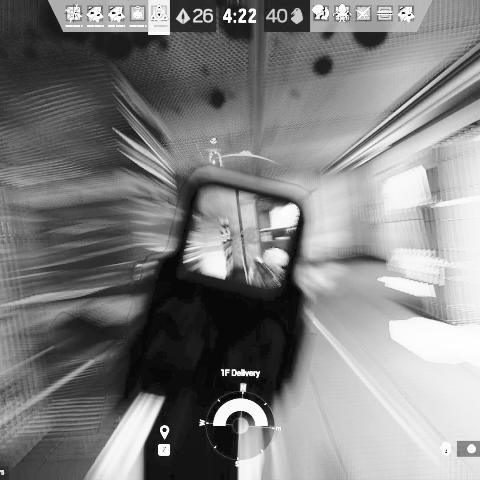Character: (246, 246, 292, 290), (218, 216, 235, 275)
Friend_label: (204, 137, 222, 152)
Head: (262, 246, 288, 272), (220, 217, 230, 231)
